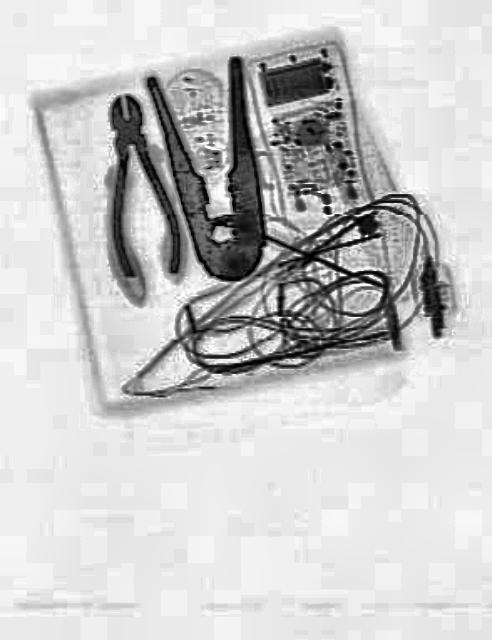Pliers: (143, 48, 285, 298), (88, 85, 184, 282)
